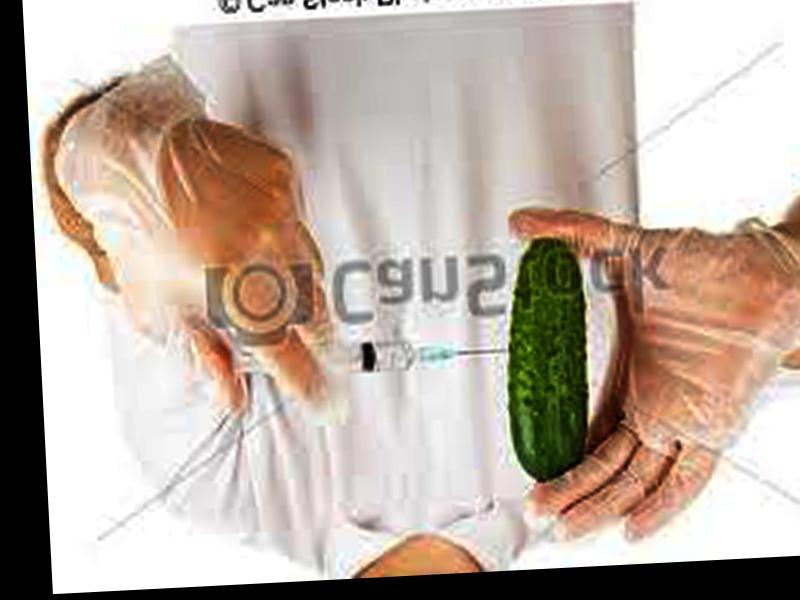Cucumber: (504, 238, 596, 489)
